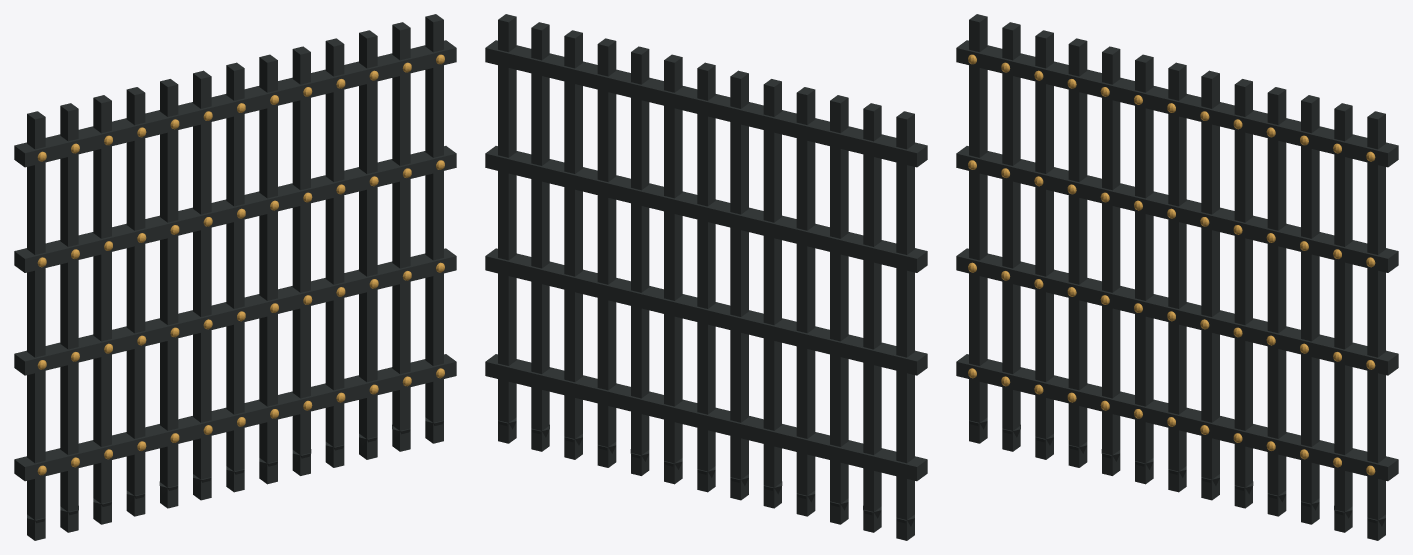
File: herse.glb
The picture shows the model from 3 angles, left to right: view 1: azimuth 30°, elevation 25°; view 2: azimuth 150°, elevation 25°; view 3: azimuth 330°, elevation 25°; orthographic projection.
Visible parts, largest first — view 1: herse_Maillage; view 2: herse_Maillage; view 3: herse_Maillage.
Boxes of the visible parts, x1,y1,x2,y2 form: herse_Maillage: [14, 14, 456, 540]; herse_Maillage: [485, 14, 927, 540]; herse_Maillage: [956, 14, 1398, 540].
Bounding box in the file's own units: 4.45 × 4.15 × 0.2325.
